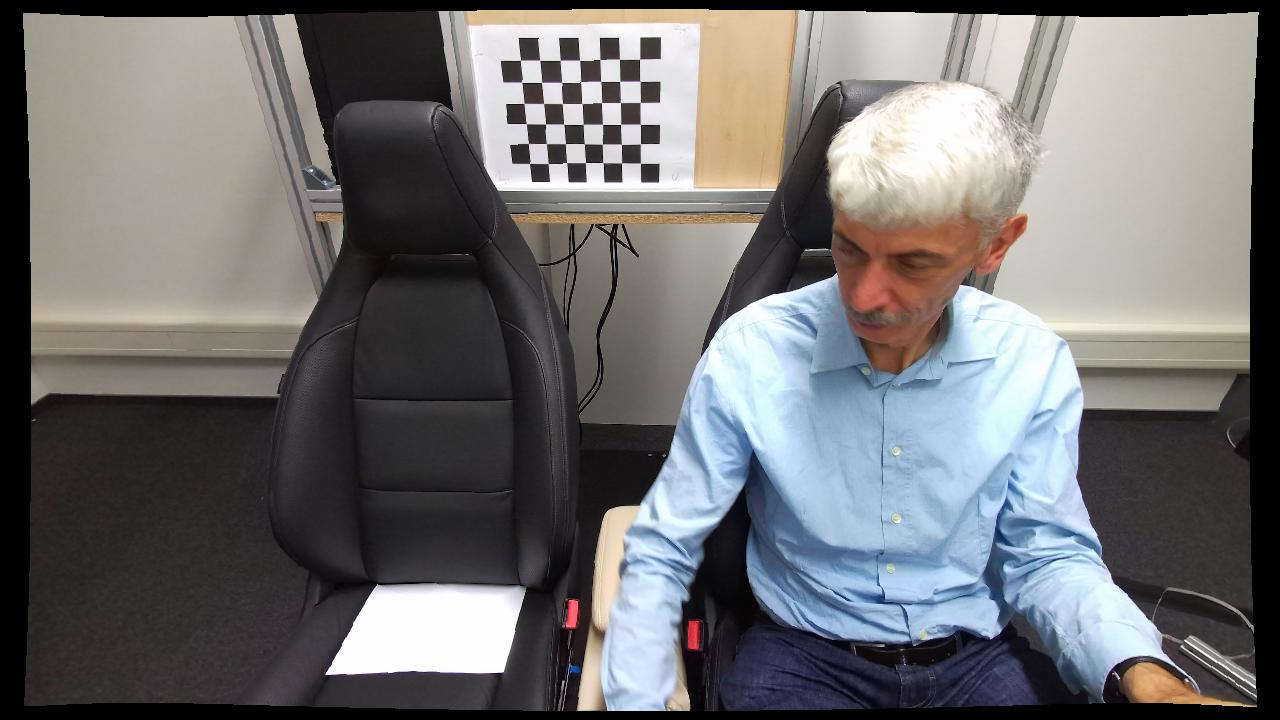Distracted: (605, 85, 1086, 712)
